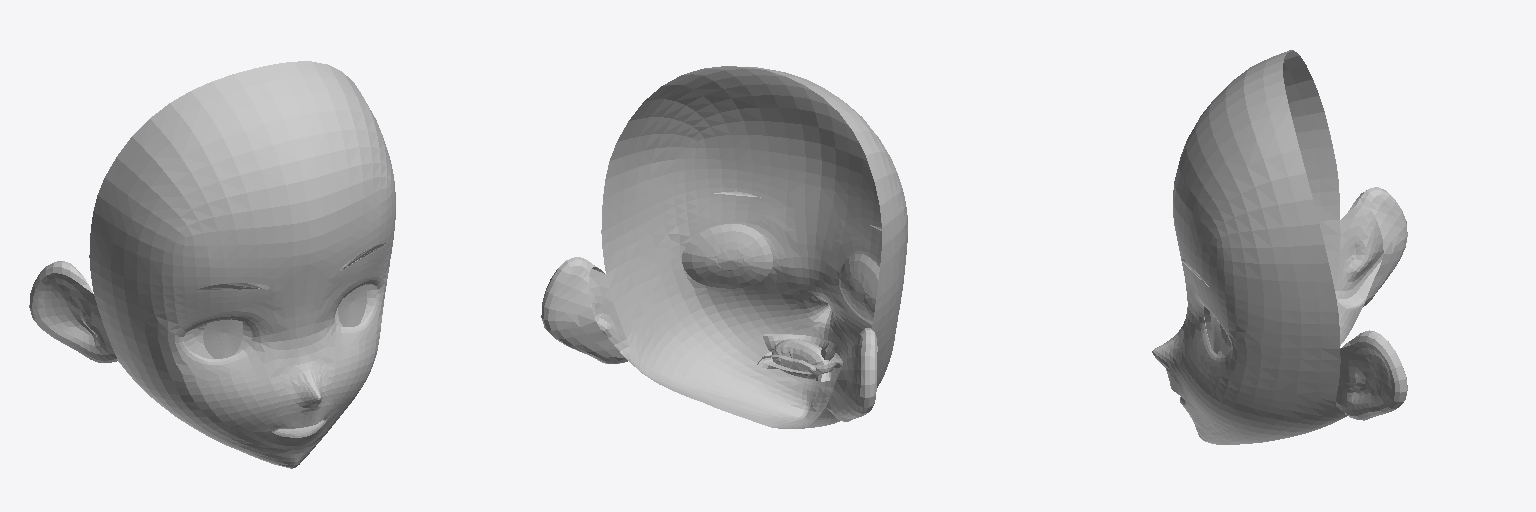
The model's file is mouthDimpleRight.obj.
3 renders of one model, left to right at view 1: azimuth 30°, elevation 25°; view 2: azimuth 150°, elevation 25°; view 3: azimuth 270°, elevation 25°, orthographic.
Parts seen in each view (by area): view 1: Face; view 2: Face; view 3: Face.
Boxes of the visible parts, box(x1,y1,x2,y2) form: Face: box(29, 61, 395, 468); Face: box(541, 66, 907, 428); Face: box(1152, 50, 1407, 444).
Size of the model in its own units: 0.2176 by 0.2333 by 0.1449.